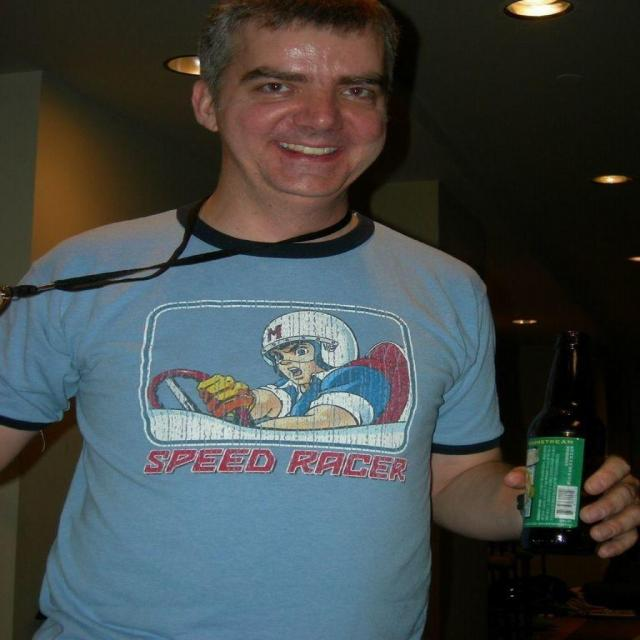bottle-glass: (509, 329, 613, 550)
